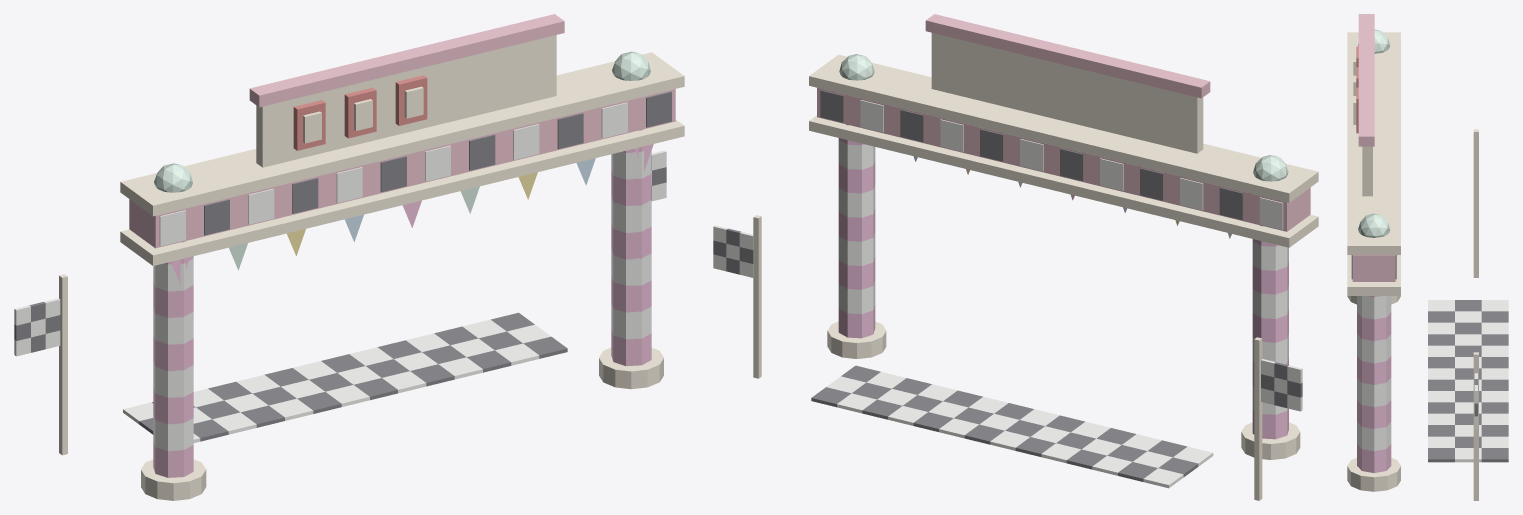
Rendered from draha_cil.glb.
3 views of the same model, side by side, from view 1: azimuth 30°, elevation 25°; view 2: azimuth 150°, elevation 25°; view 3: azimuth 270°, elevation 25° (orthographic). The views are drawn at different scales.
Visible parts, largest first — view 1: DrahaCil_cream, DrahaCil_white, DrahaCil_dark, DrahaCil_pink2, DrahaCil_lol, DrahaCil_red2, DrahaCil_mint; view 2: DrahaCil_cream, DrahaCil_white, DrahaCil_dark, DrahaCil_pink2, DrahaCil_lol, DrahaCil_mint; view 3: DrahaCil_cream, DrahaCil_white, DrahaCil_dark, DrahaCil_pink2, DrahaCil_lol, DrahaCil_mint, DrahaCil_red2.
Part boxes in pixels (<box>): DrahaCil_cream: <box>59,35,684,500</box>; DrahaCil_white: <box>14,102,666,451</box>; DrahaCil_dark: <box>14,91,671,441</box>; DrahaCil_pink2: <box>129,14,675,248</box>; DrahaCil_lol: <box>153,129,653,477</box>; DrahaCil_red2: <box>293,75,427,150</box>; DrahaCil_mint: <box>154,51,650,270</box>; DrahaCil_cream: <box>753,33,1318,500</box>; DrahaCil_white: <box>713,100,1302,488</box>; DrahaCil_dark: <box>713,90,1302,481</box>; DrahaCil_pink2: <box>817,14,1310,231</box>; DrahaCil_lol: <box>838,124,1288,439</box>; DrahaCil_mint: <box>839,54,1288,238</box>; DrahaCil_cream: <box>1347,32,1478,500</box>; DrahaCil_white: <box>1357,129,1508,462</box>; DrahaCil_dark: <box>1351,255,1508,462</box>; DrahaCil_pink2: <box>1352,14,1395,281</box>; DrahaCil_lol: <box>1357,296,1391,472</box>; DrahaCil_mint: <box>1358,29,1390,237</box>; DrahaCil_red2: <box>1356,46,1358,133</box>.
Size of the model in its own units: 11.5 by 6.42 by 3.
